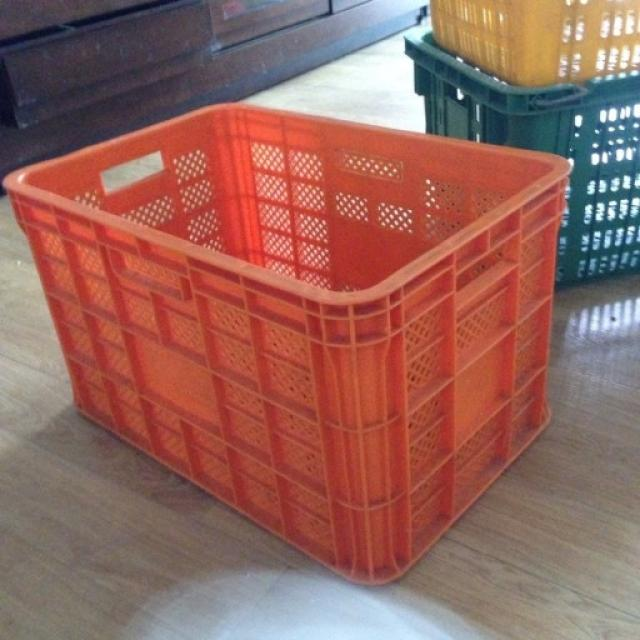basket: (0, 68, 592, 610), (406, 33, 640, 282), (431, 1, 640, 86)
